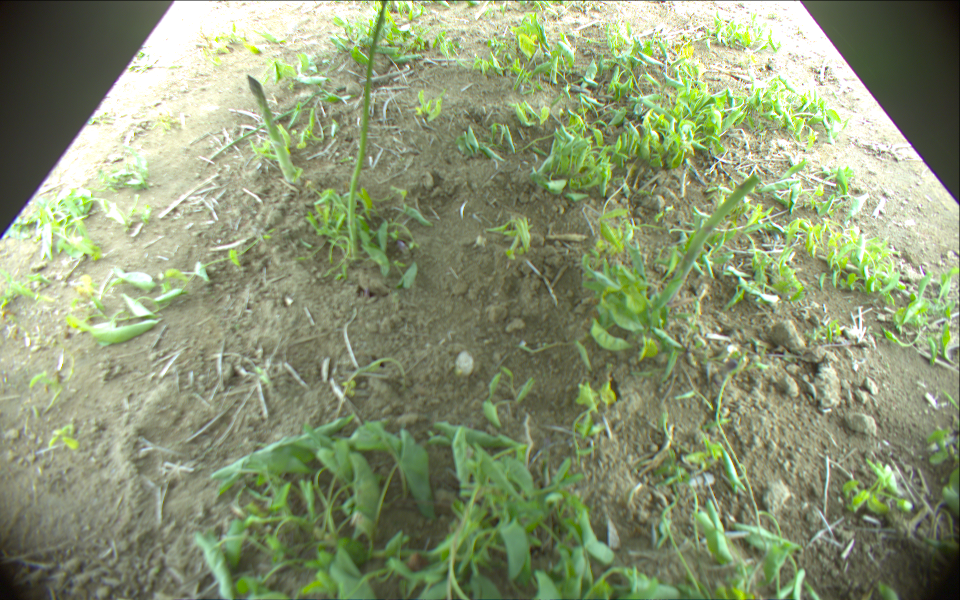aspa: (647, 172, 760, 320), (347, 1, 390, 251), (248, 76, 295, 183)
